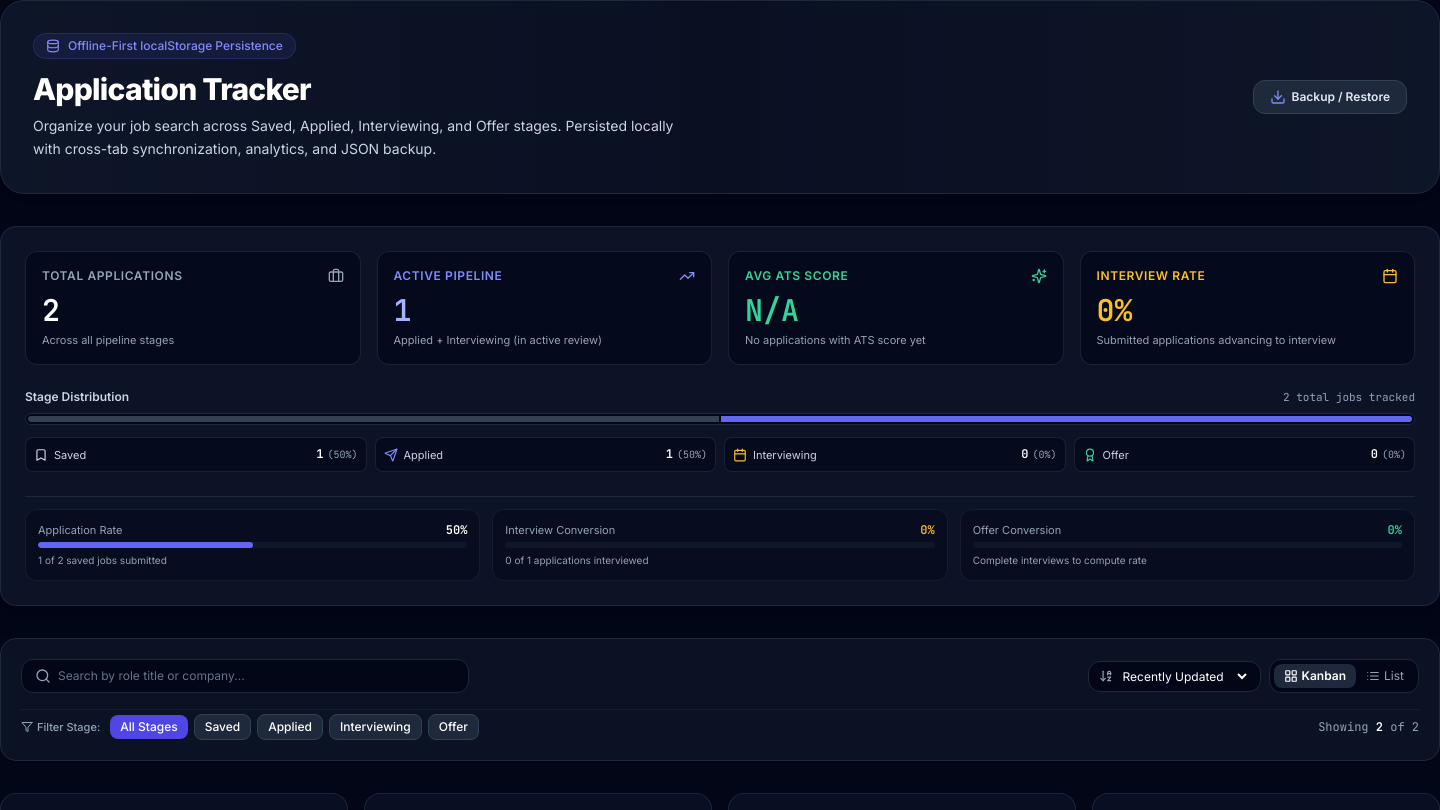
Test: Module 3: Complete Application Tracker Tests › searches applications by role title and company, and clears search
Note: Filter by "Stripe"
In the field with placeholder "Search by role title or company...": (245, 676) [21,659,469,693], type "Stripe"
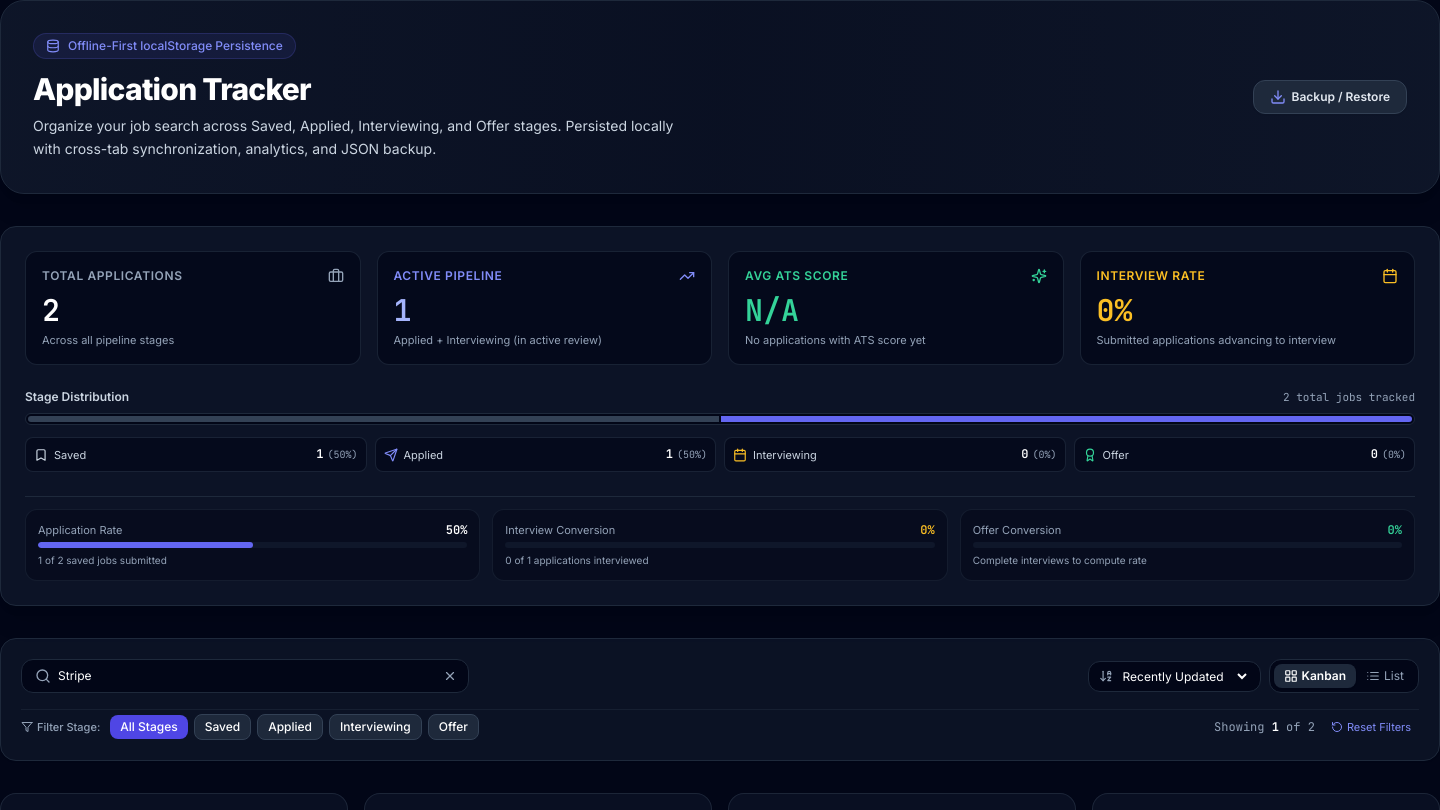
Expected: the text "Lead React Architect" is not shown
Note: Clear search
Click the button named "Clear search": (450, 676) [443,669,457,683]
(page scrolled)
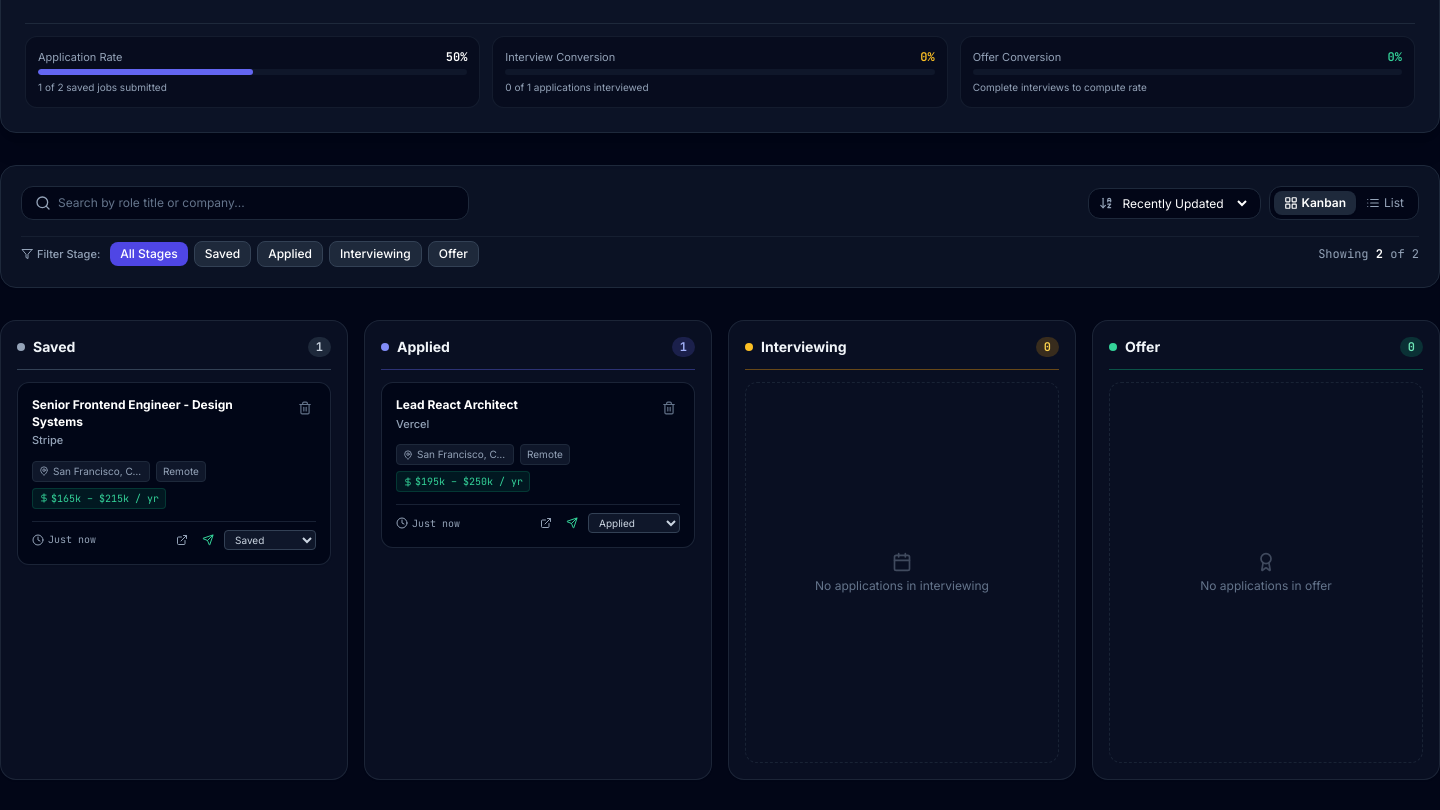
Result: the heading "Lead React Architect" is shown at [396,397,518,412]
